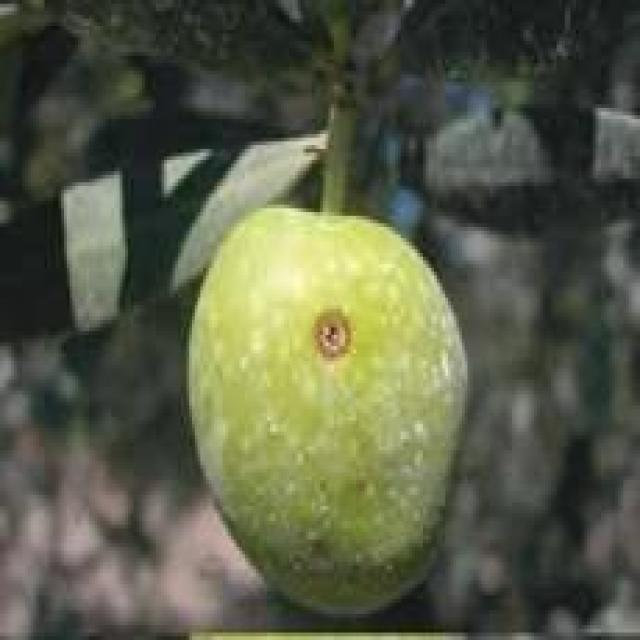Olive Fruit Fly: (186, 208, 465, 610)
